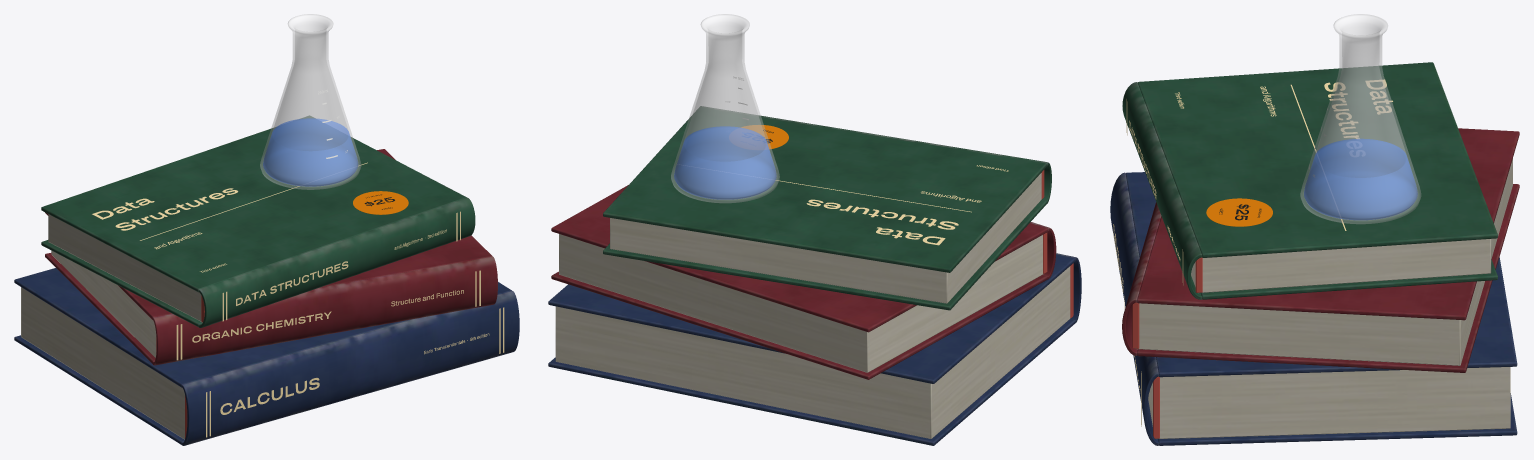
The model's file is textbooks.glb.
3 views of the same model, side by side, from view 1: azimuth 30°, elevation 25°; view 2: azimuth 150°, elevation 25°; view 3: azimuth 270°, elevation 25° (orthographic). The views are drawn at different scales.
Visible parts, largest first — view 1: book_3_cloth, book_1_cloth, book_2_cloth, glass, book_1_pages, liquid, book_3_pages, book_3_parts, book_2_pages, book_1_parts, book_2_parts; view 2: book_3_cloth, book_1_pages, book_2_pages, book_3_pages, glass, book_1_cloth, book_2_cloth, liquid, book_3_parts; view 3: book_3_cloth, book_1_pages, book_2_cloth, book_2_pages, glass, book_1_cloth, book_3_pages, liquid, book_3_parts, book_1_parts.
Boxes of the visible parts, x1,y1,x2,y2 form: book_3_cloth: [41, 115, 475, 327]; book_1_cloth: [14, 268, 519, 445]; book_2_cloth: [45, 149, 497, 365]; glass: [260, 14, 360, 189]; book_1_pages: [21, 287, 184, 439]; liquid: [263, 118, 358, 186]; book_3_pages: [48, 214, 201, 321]; book_3_parts: [92, 162, 460, 322]; book_2_pages: [51, 250, 156, 357]; book_1_parts: [185, 307, 504, 438]; book_2_parts: [156, 270, 480, 360]; book_3_cloth: [603, 106, 1051, 310]; book_1_pages: [555, 266, 1070, 438]; book_2_pages: [559, 234, 1043, 372]; book_3_pages: [610, 173, 1041, 303]; glass: [671, 14, 779, 202]; book_1_cloth: [548, 253, 1081, 445]; book_2_cloth: [551, 185, 1056, 379]; liquid: [674, 126, 776, 199]; book_3_parts: [741, 125, 1044, 245]; book_3_cloth: [1122, 62, 1497, 299]; book_1_pages: [1148, 367, 1510, 438]; book_2_cloth: [1122, 128, 1519, 372]; book_2_pages: [1135, 158, 1512, 365]; glass: [1300, 14, 1420, 223]; book_1_cloth: [1110, 172, 1517, 445]; book_3_pages: [1191, 239, 1491, 293]; liquid: [1304, 138, 1417, 220]; book_3_parts: [1126, 79, 1392, 292]; book_1_parts: [1113, 224, 1159, 438].
Size of the model in its own units: 0.2861 by 0.222 by 0.2333.
Materials: 9 (2 with a texture image).
